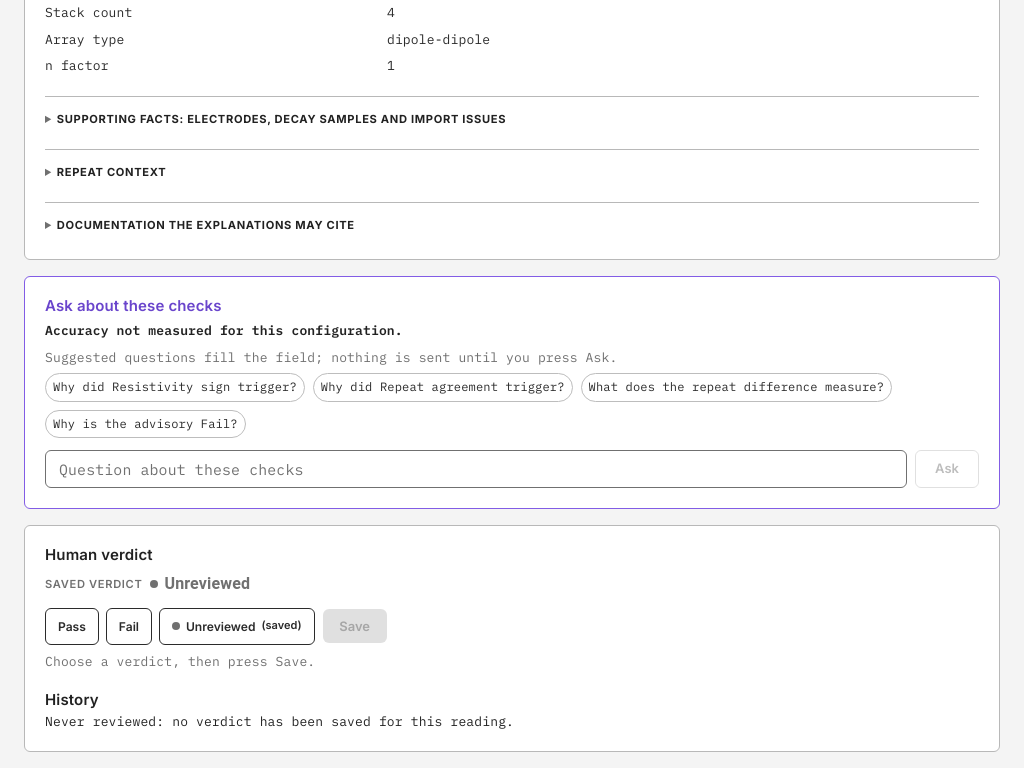
Test case: asking › shows a checked answer with each citation linked to a source card on the page
(page scrolled)
Type "Why did it fail?" into the field labelled "Question about these checks" at {"x": 476, "y": 469}, box [45,450,907,488]
Then press Enter
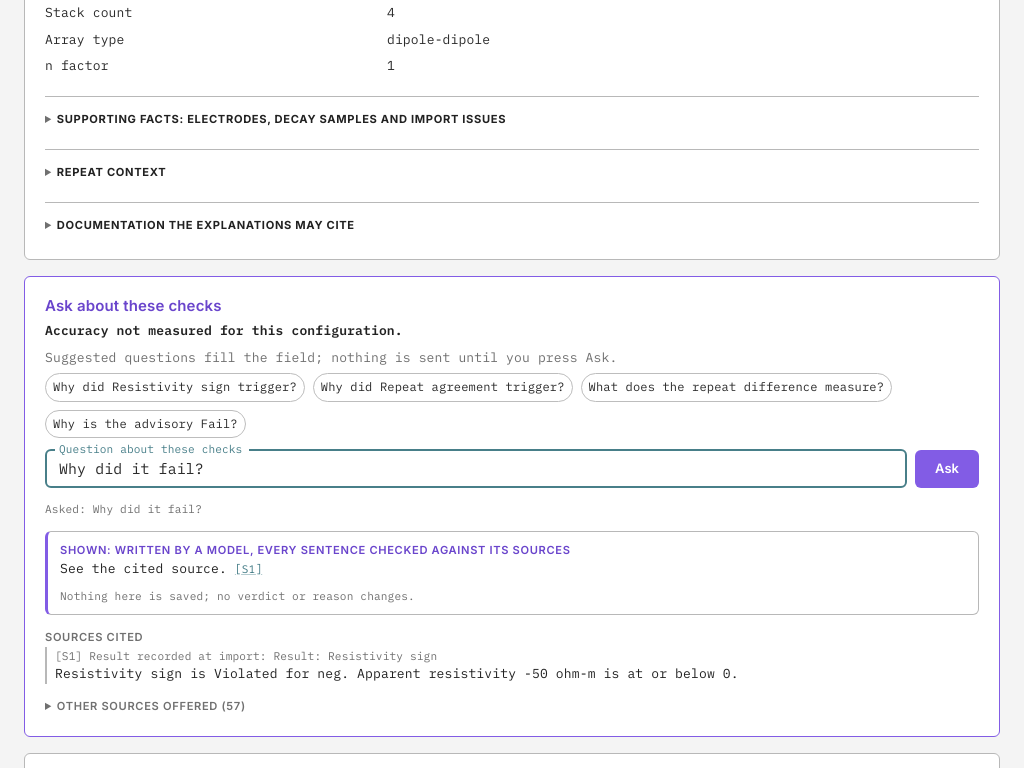
Now the element named "Written answer" shows "See the cited source.", box [60,560,227,577]
Now the element that starts with "Result recorded at import" is shown, box [45,647,979,684]
Now the element that starts with "Result recorded at import" shows "Resistivity sign is Violated for neg. Apparent resistivity -50 ohm-m is at or below 0.", box [55,665,739,682]
